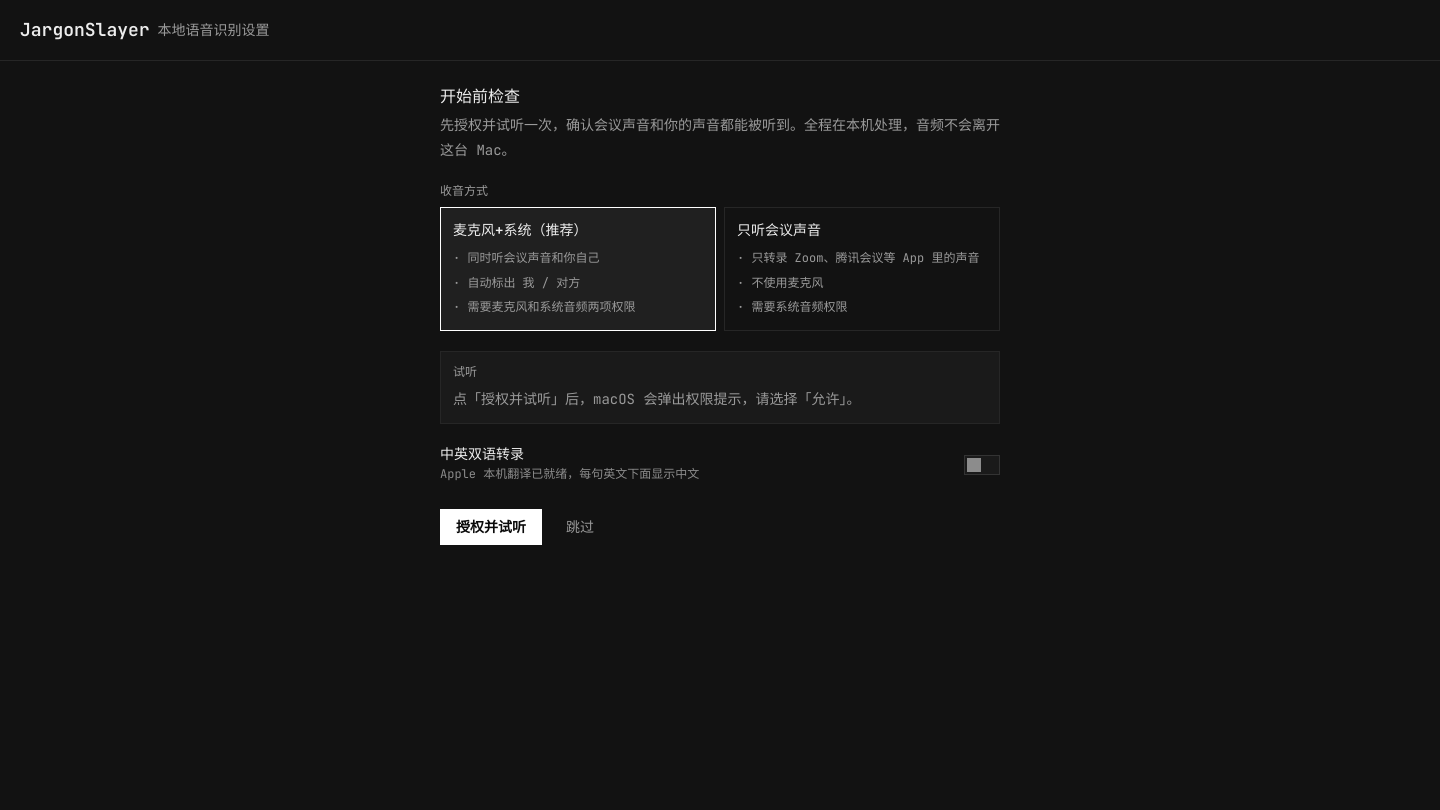
Test case: ReadinessScreen › 授权并试听 with the recommended card switches on dual capture, then passes once both 我 and 对方 are heard
Later steps or results of the test are not shown.
Click the button "授权并试听". click: (491, 527)
box: x1=440 y1=509 x2=542 y2=545
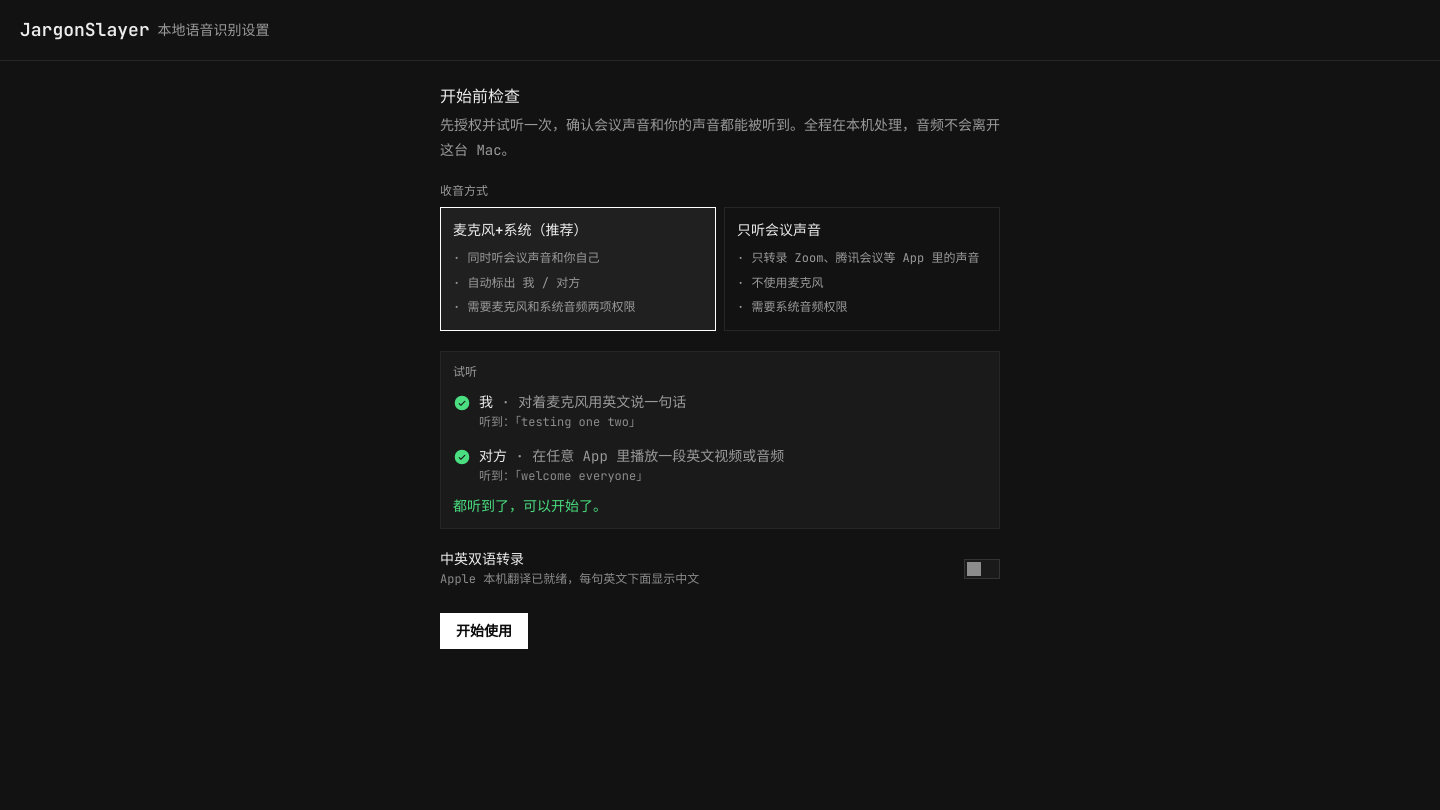
Result: the text "testing one two" is shown at x1=521 y1=414 x2=629 y2=430
